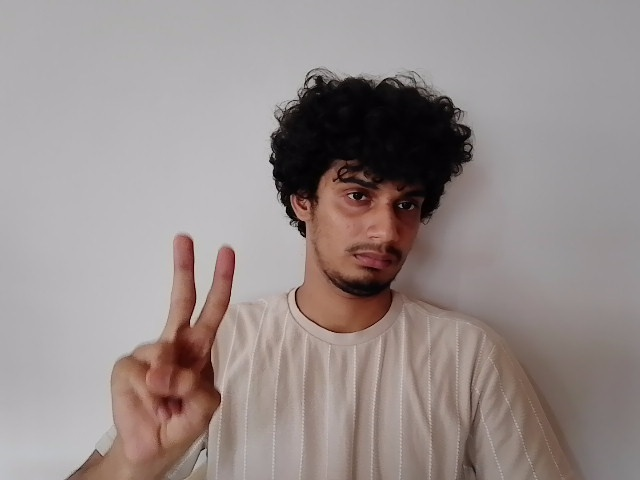travel: (107, 233, 241, 456)
